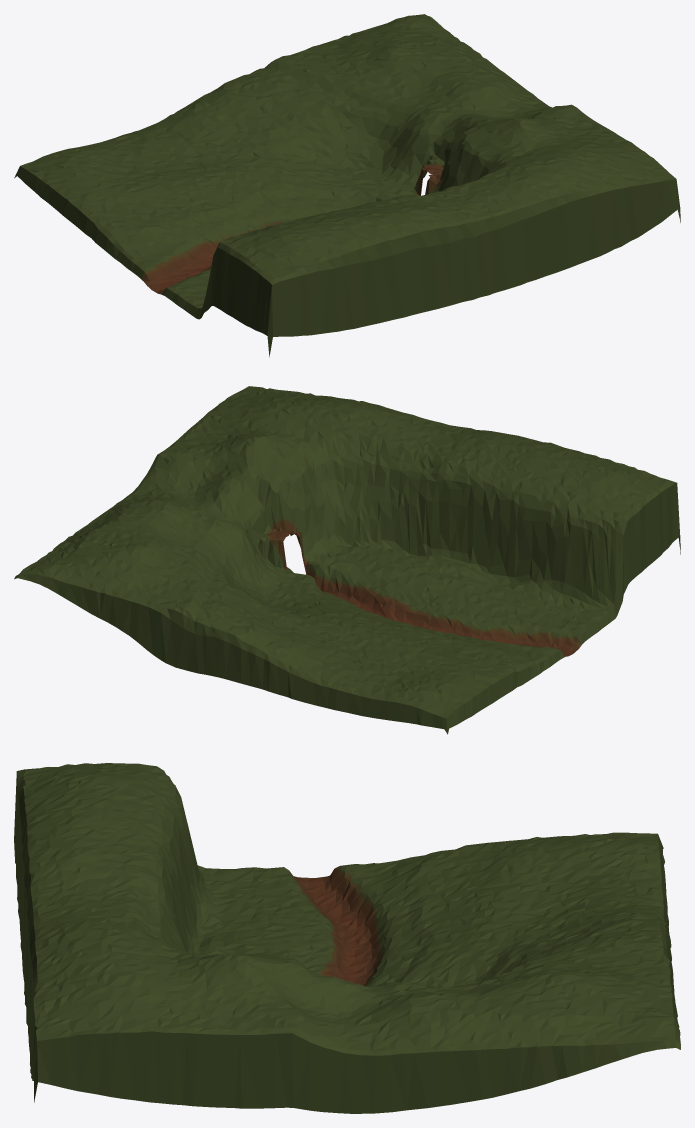
File: lowpolyterrain.fbx
3 views of the same model, one above another, from view 1: azimuth 30°, elevation 25°; view 2: azimuth 150°, elevation 25°; view 3: azimuth 270°, elevation 25° (orthographic). The views are drawn at different scales.
Parts seen in each view (by area): view 1: node_id3; view 2: node_id3; view 3: node_id3.
Part boxes in pixels (left/top/right/bottom): node_id3: left=14, top=14, right=680, bottom=357; node_id3: left=14, top=386, right=680, bottom=734; node_id3: left=14, top=763, right=680, bottom=1113.
Bounding box in the file's own units: 0.5272 × 0.1262 × 0.5249.
Materials: 1 (1 with a texture image).
